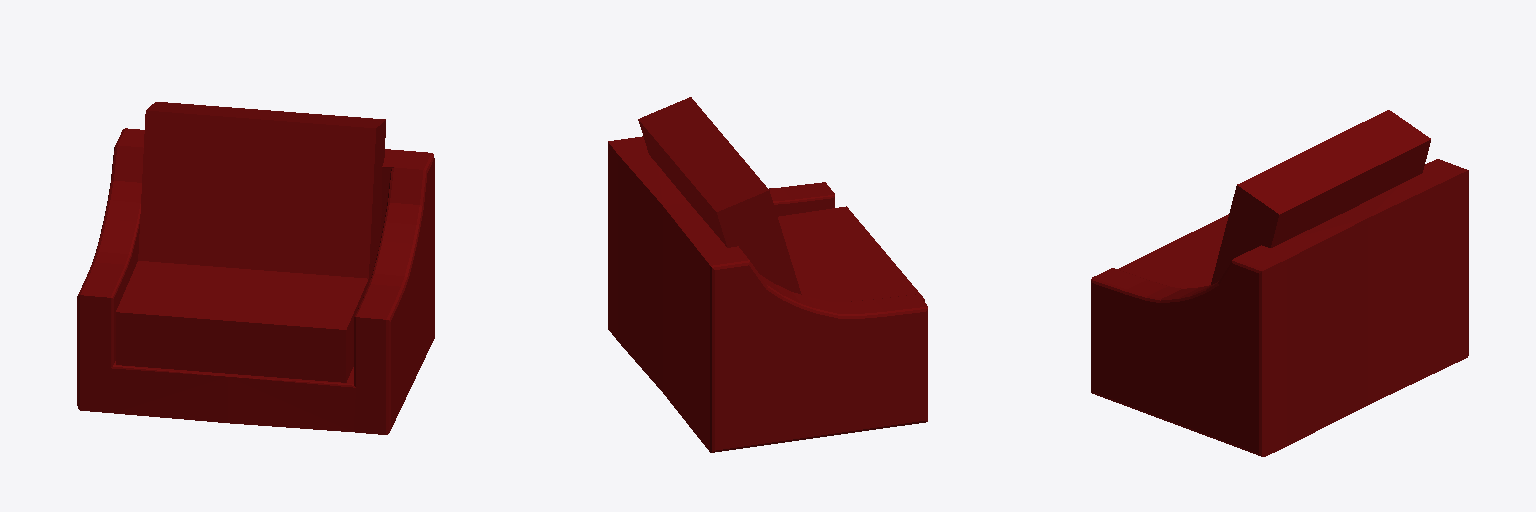
File: Lazyboi.obj
3 views of the same model, side by side, from view 1: azimuth 30°, elevation 25°; view 2: azimuth 150°, elevation 25°; view 3: azimuth 270°, elevation 25° (orthographic).
Parts seen in each view (by area): view 1: Couch_Base1; view 2: Couch_Base1; view 3: Couch_Base1.
Boxes of the visible parts, x1=… form: Couch_Base1: x1=77, y1=102, x2=434, y2=434; Couch_Base1: x1=608, y1=97, x2=927, y2=452; Couch_Base1: x1=1091, y1=110, x2=1468, y2=456.
Bounding box in the file's own units: 6.38 × 4.3 × 6.17.